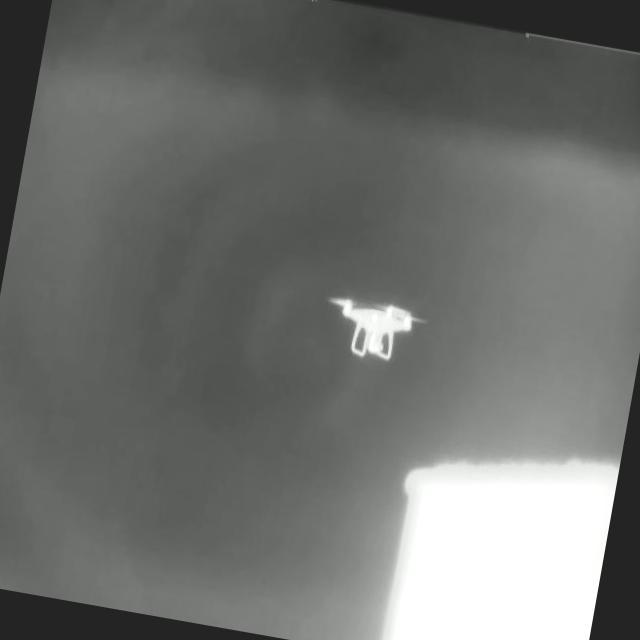DRONE: (319, 294, 430, 362)
